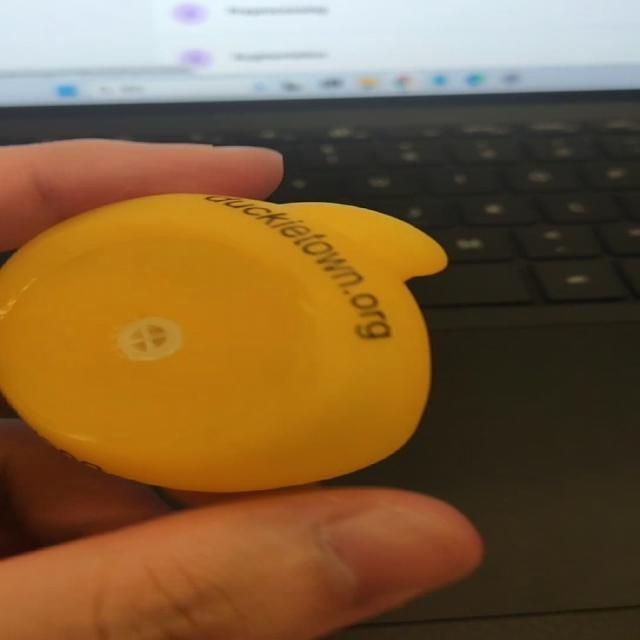rubber-duck: (0, 193, 445, 490)
